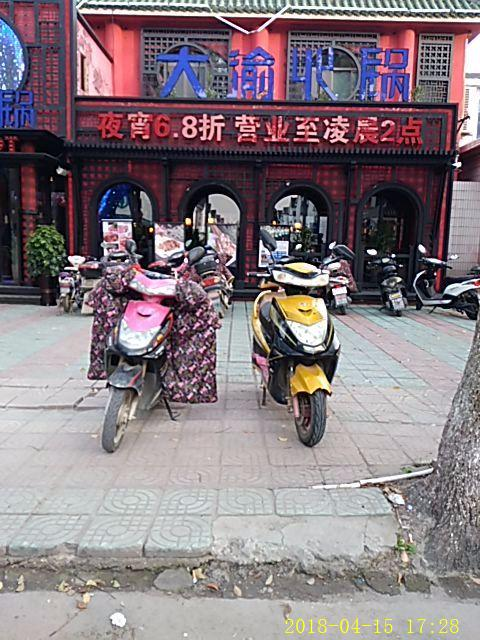multi_signs: (154, 38, 412, 104), (0, 89, 38, 129)
window_shielding: (154, 39, 409, 104)
